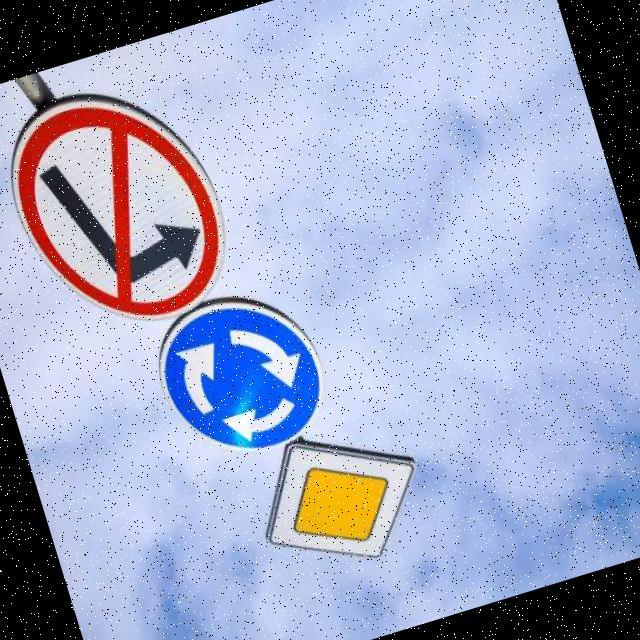round_about: (136, 277, 344, 480)
